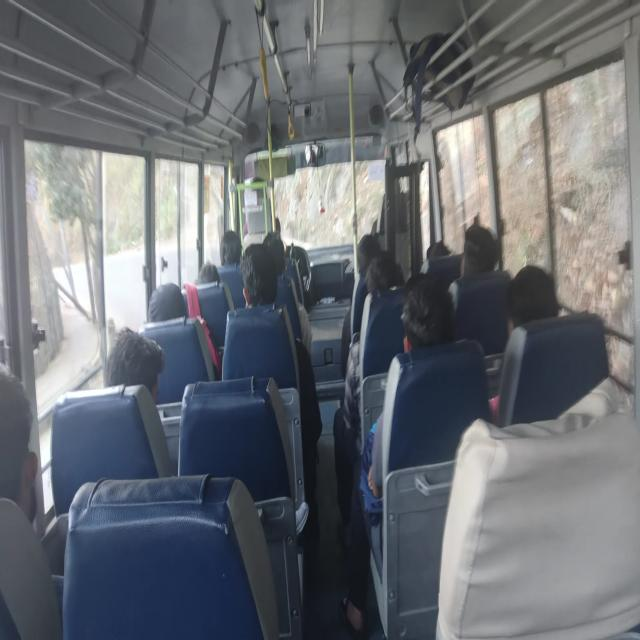person: (340, 274, 456, 635), (238, 242, 322, 514), (334, 250, 406, 524), (0, 360, 65, 638), (488, 264, 561, 418), (104, 326, 174, 476), (262, 230, 312, 356), (0, 361, 38, 525), (340, 233, 382, 376), (104, 326, 165, 402), (447, 223, 499, 308), (505, 264, 560, 336), (461, 223, 498, 275), (148, 282, 188, 322), (219, 230, 242, 268), (196, 261, 220, 284)
